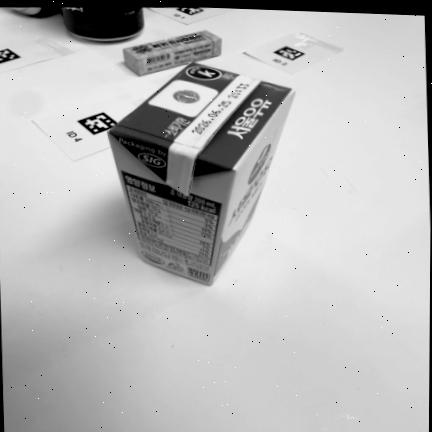milk_green: (109, 63, 294, 285)
